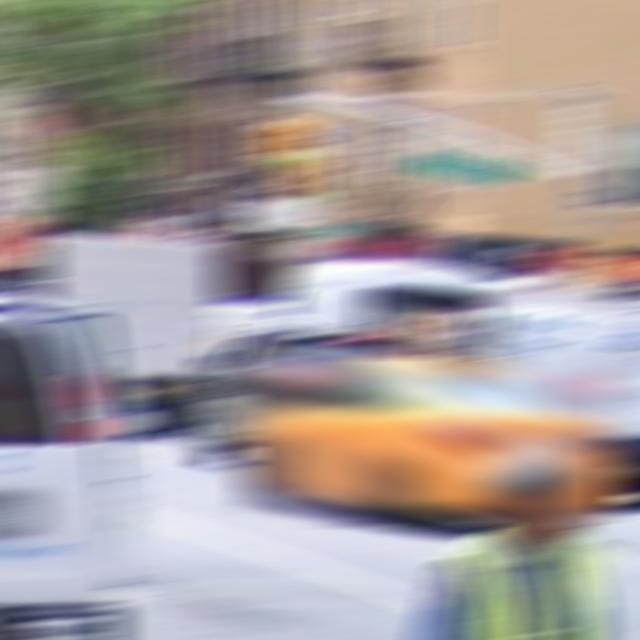Taxi: (238, 359, 614, 525)
